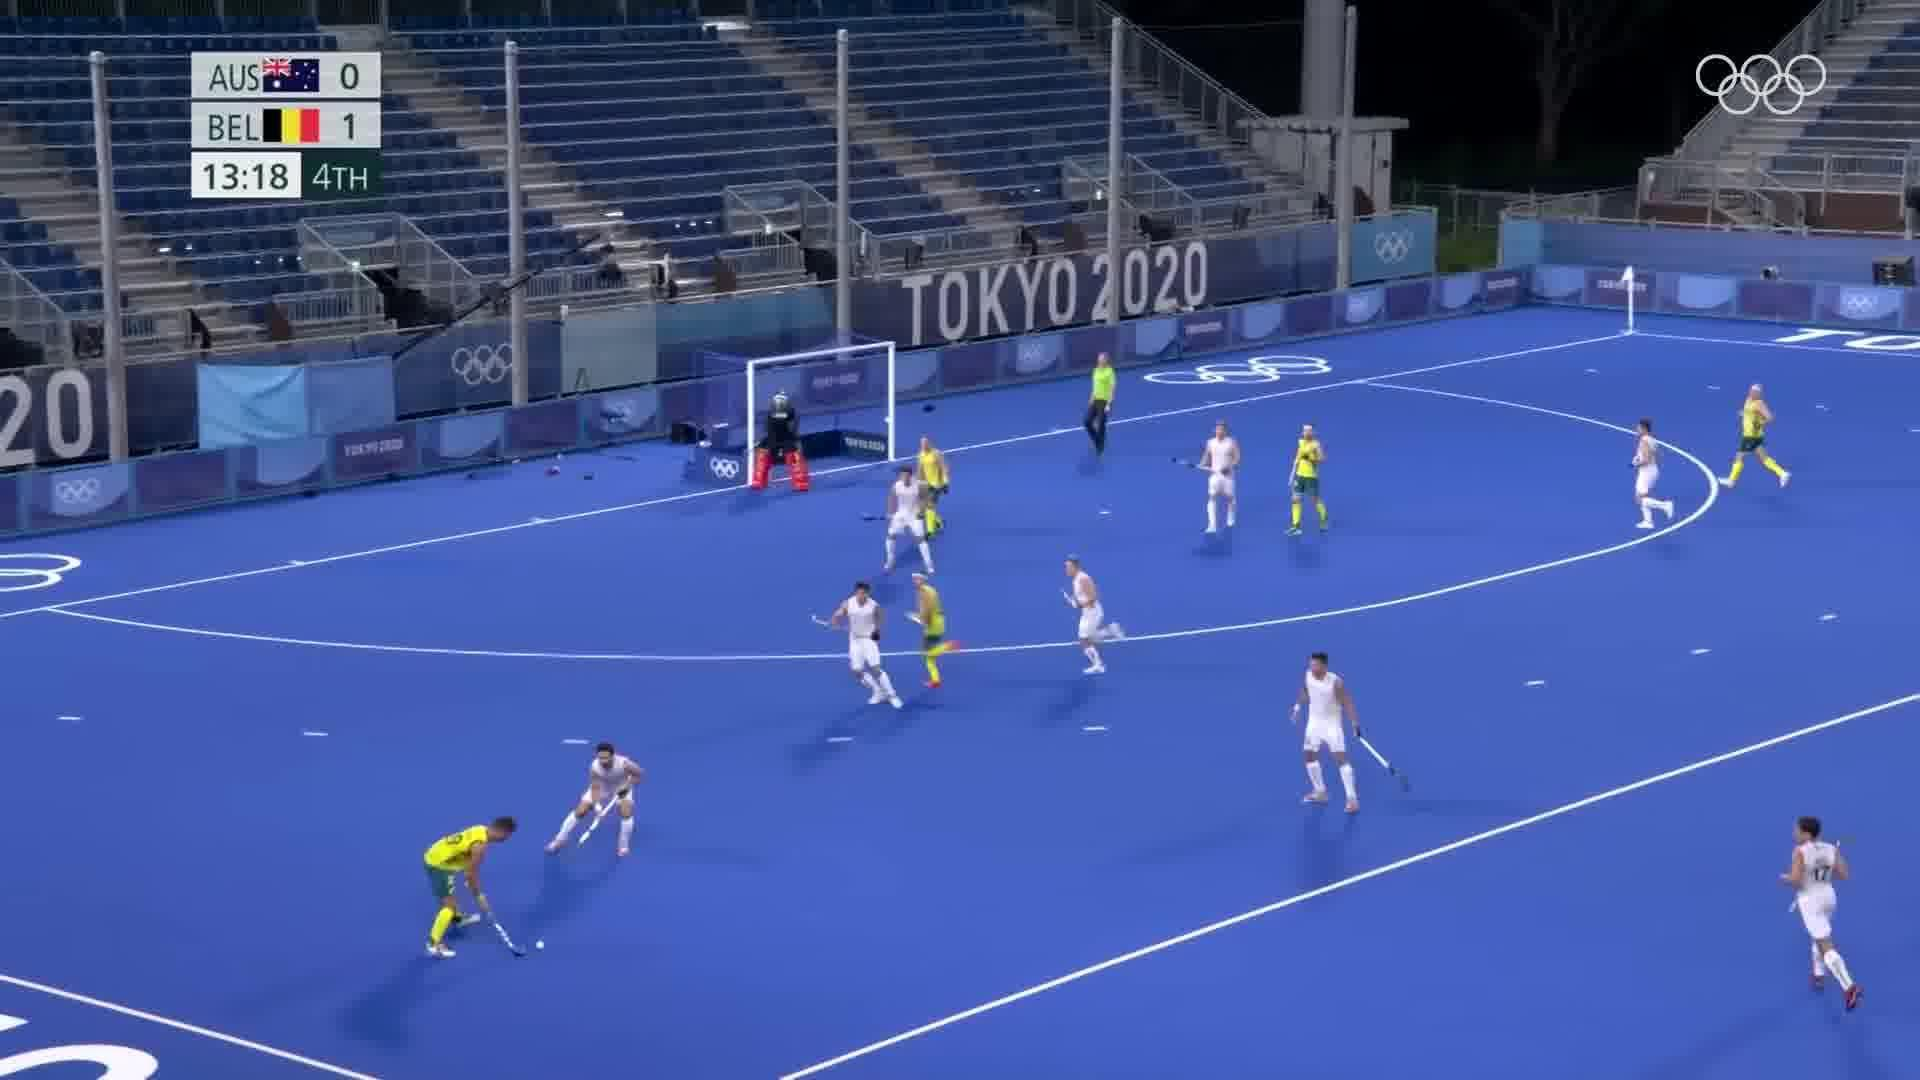ball: (530, 931, 553, 959)
